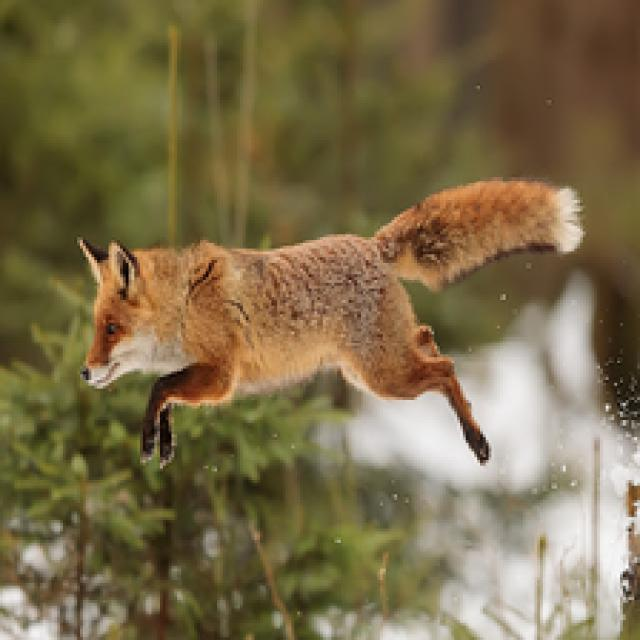fox: (58, 166, 597, 467)
